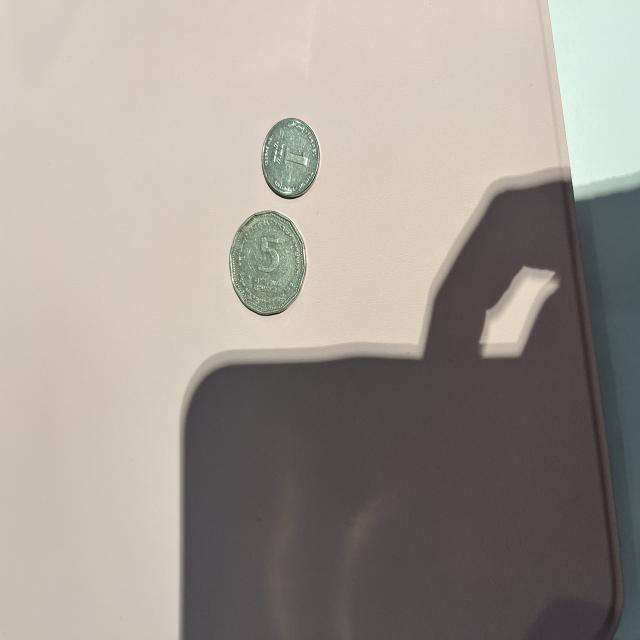1-shekel: (260, 124, 334, 203)
5-shekel: (225, 206, 312, 320)
